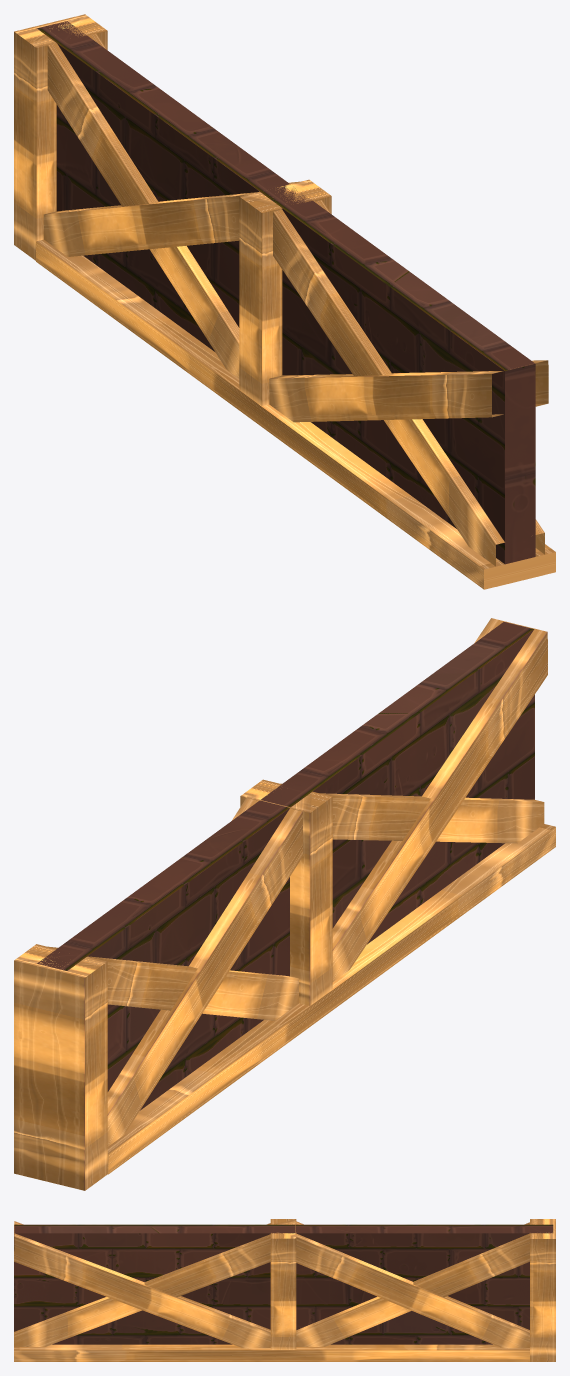
Rendered from SM_Small_Horizontal_Wall_01.fbx.
3 views of the same model, one above another, from view 1: azimuth 30°, elevation 25°; view 2: azimuth 150°, elevation 25°; view 3: azimuth 270°, elevation 25° (orthographic). The views are drawn at different scales.
Parts seen in each view (by area): view 1: SM_Small_Horizontal_Wall_01; view 2: SM_Small_Horizontal_Wall_01; view 3: SM_Small_Horizontal_Wall_01.
Boxes of the visible parts, x1,y1,x2,y2 form: SM_Small_Horizontal_Wall_01: [14, 14, 555, 589]; SM_Small_Horizontal_Wall_01: [14, 618, 555, 1190]; SM_Small_Horizontal_Wall_01: [14, 1219, 555, 1361].
Bounding box in the file's own units: 35.24 × 100 × 400.
